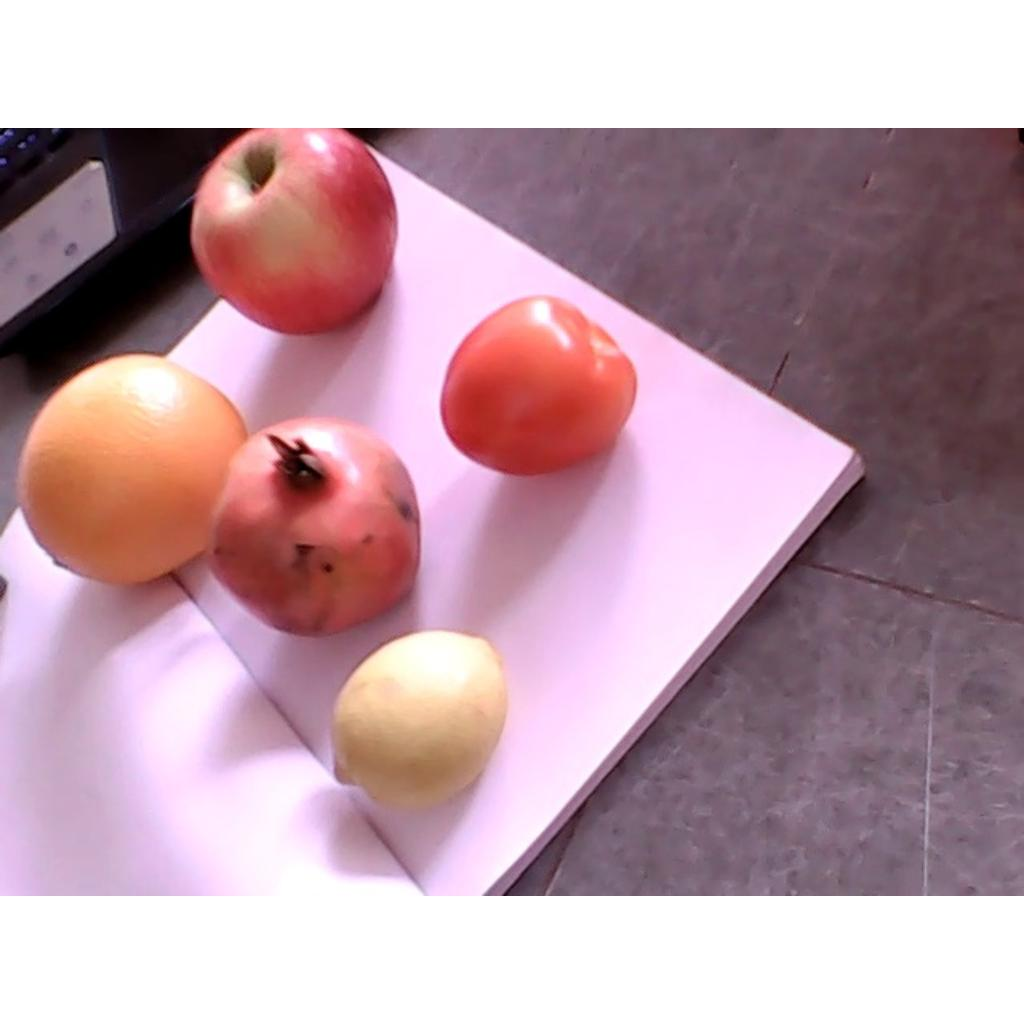apple: (192, 129, 400, 333)
lemon: (330, 630, 509, 810)
orange: (21, 354, 246, 583)
pomegranate: (206, 417, 418, 639)
tomato: (443, 296, 636, 478)
